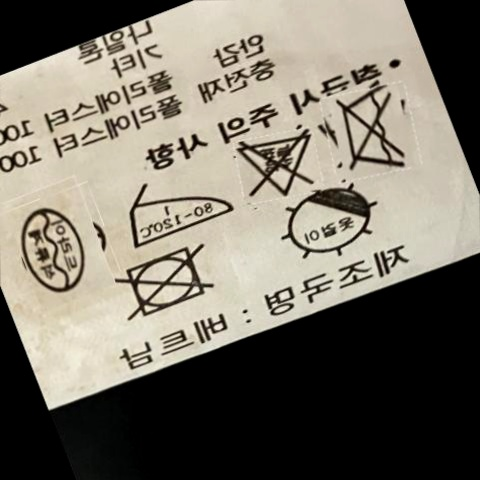DN_tumble_dry: (118, 246, 213, 320)
DN_wash: (327, 89, 410, 170)
dry_clean_petrol_only: (15, 205, 91, 295)
iron_low: (119, 178, 238, 248)
line_dry_in_shade: (277, 184, 375, 259)
non_chlorine_bleach: (234, 135, 315, 197)
